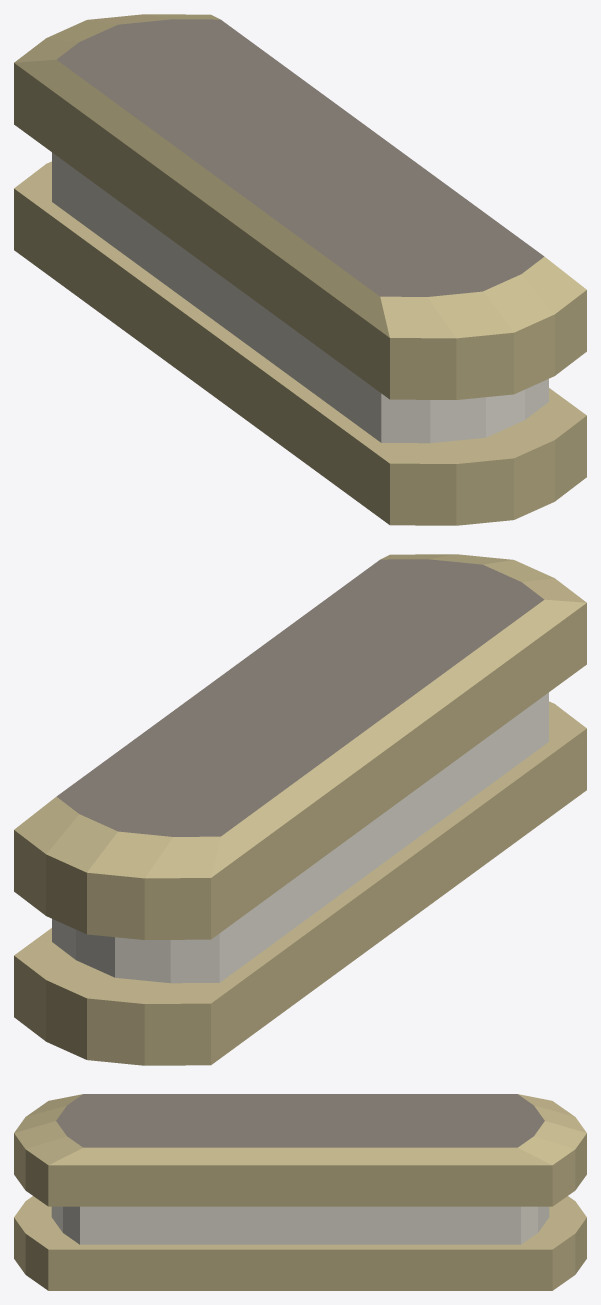
Rendered from sandwitch.fbx.
The picture shows the model from 3 angles, top to bottom: view 1: azimuth 30°, elevation 25°; view 2: azimuth 150°, elevation 25°; view 3: azimuth 270°, elevation 25°; orthographic projection. The views are drawn at different scales.
Parts seen in each view (by area): view 1: Sandwitch.003; view 2: Sandwitch.003; view 3: Sandwitch.003.
Part boxes in pixels (x1,y1,x2,y2): Sandwitch.003: (14, 14, 586, 525); Sandwitch.003: (14, 554, 586, 1065); Sandwitch.003: (14, 1094, 586, 1290).
Size of the model in its own units: 0.0636 by 0.0633 by 0.2387.
